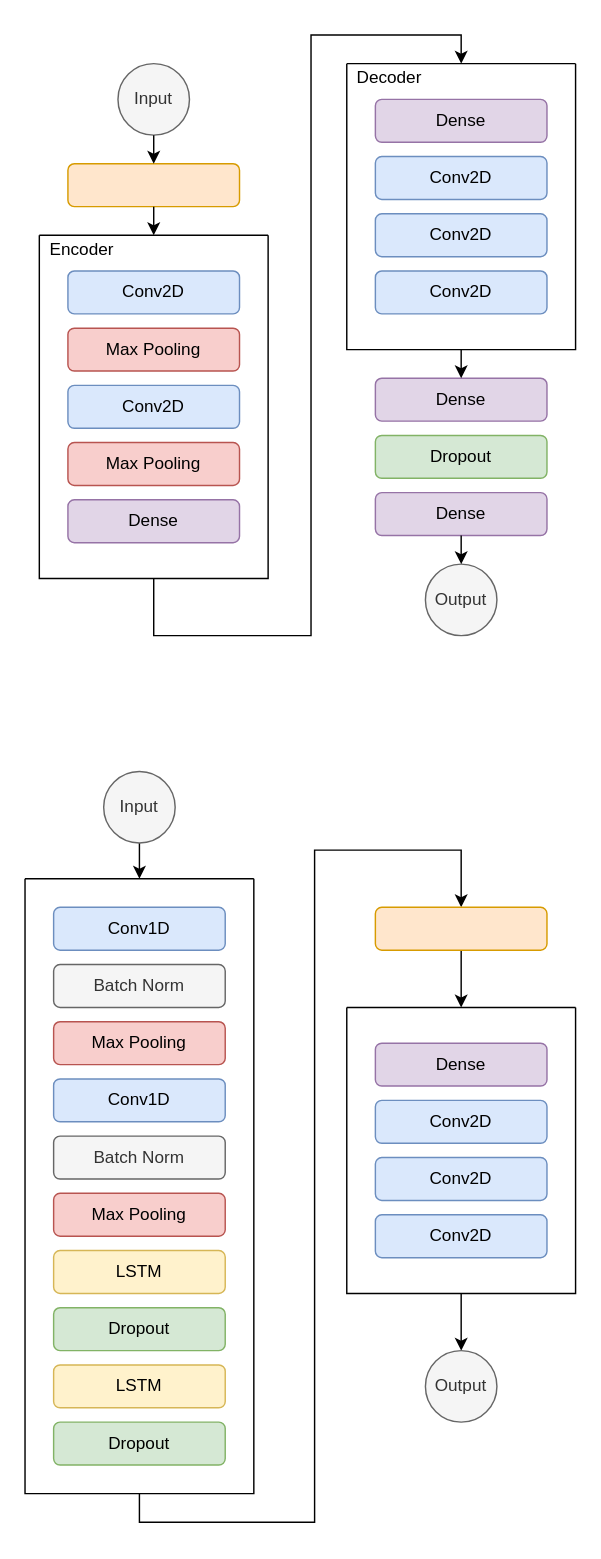
This 601x1559 diagram has some shape labels left out. The box of each missing label's shape, as (x1, y1, x2, y2) in pixels:
Attention: (374, 906, 547, 950)
Mask: (66, 162, 240, 207)
